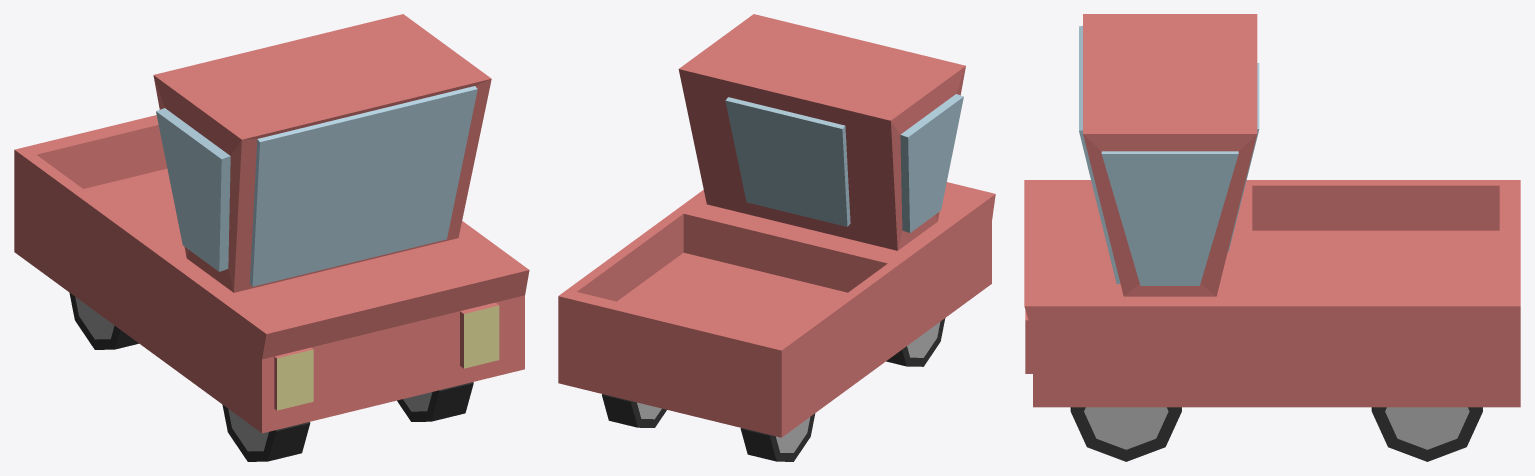
The model's file is CocheUno.fbx.
3 views of the same model, side by side, from view 1: azimuth 30°, elevation 25°; view 2: azimuth 150°, elevation 25°; view 3: azimuth 270°, elevation 25° (orthographic). The views are drawn at different scales.
Visible parts, largest first — view 1: CocheUno; view 2: CocheUno; view 3: CocheUno.
Part boxes in pixels (left/top/right/bottom): CocheUno: left=14, top=14, right=529, bottom=461; CocheUno: left=558, top=14, right=995, bottom=461; CocheUno: left=1024, top=14, right=1520, bottom=461.
Size of the model in its own units: 544 by 673 by 891.
